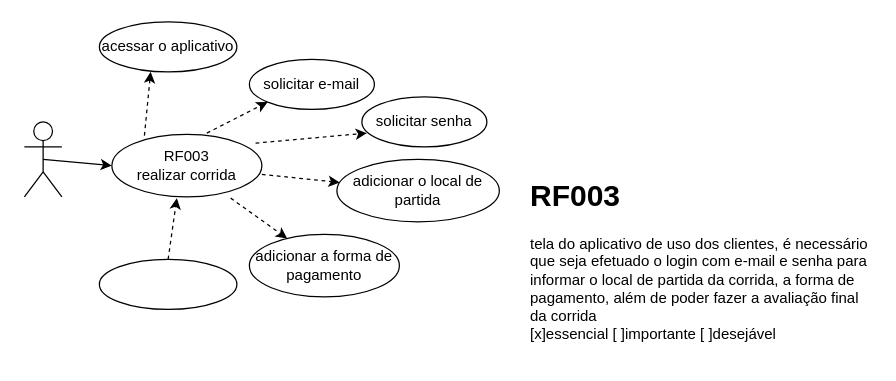
Some shapes in this 896 by 381 pixel diagram are drawn without their labels. Here are the shapes that lost their labels. From the top down, the centre of each, then its label:
At point (42, 159): "cliente".
At point (167, 283): "avaliar corrida".
